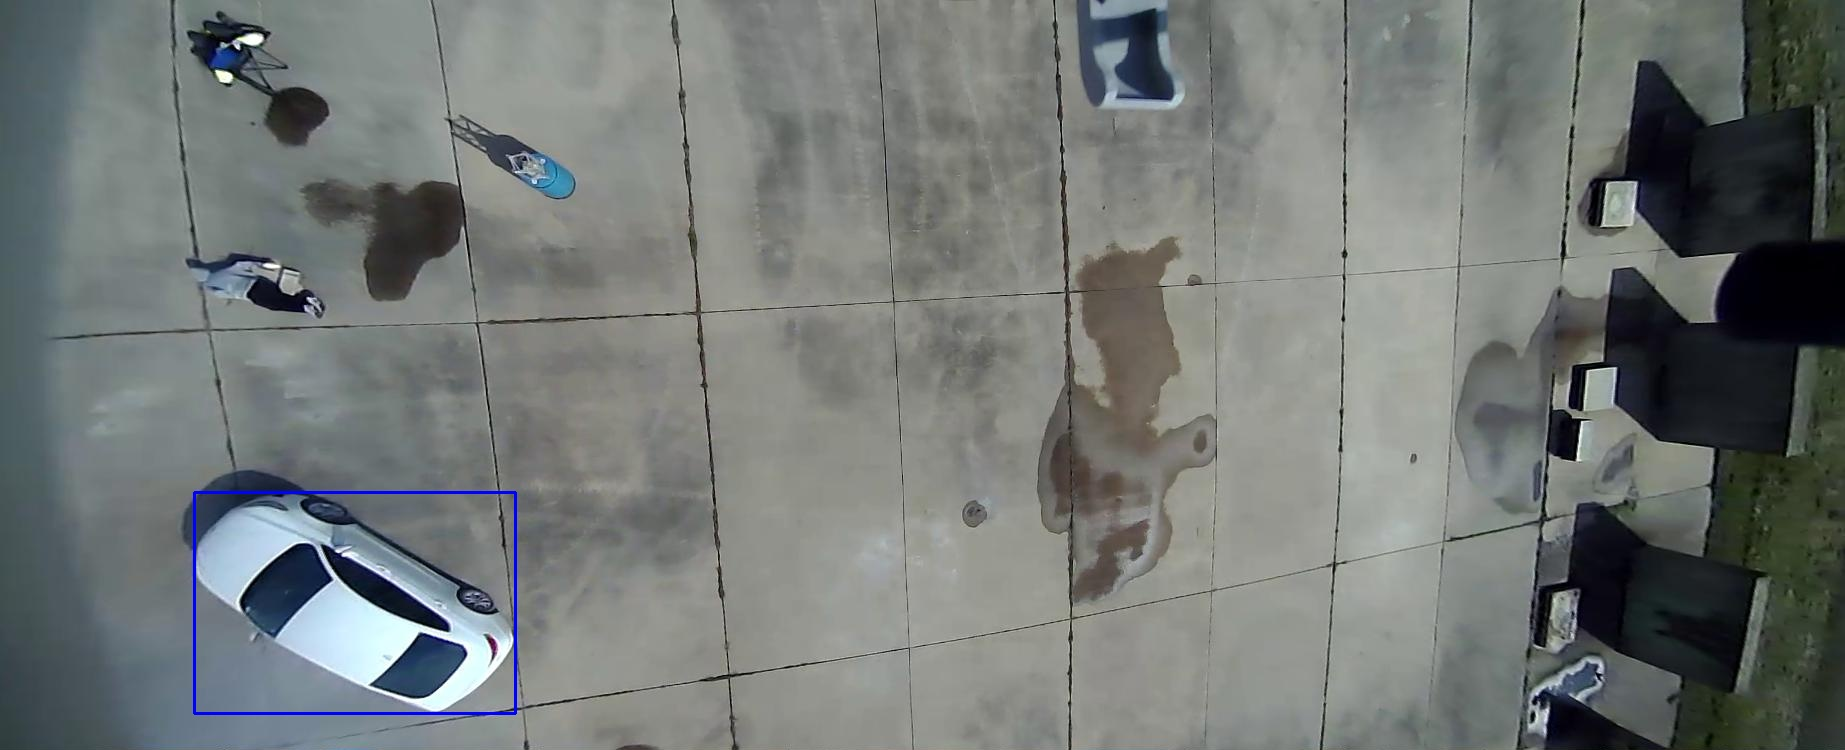vehicle: (492, 194, 713, 515)
